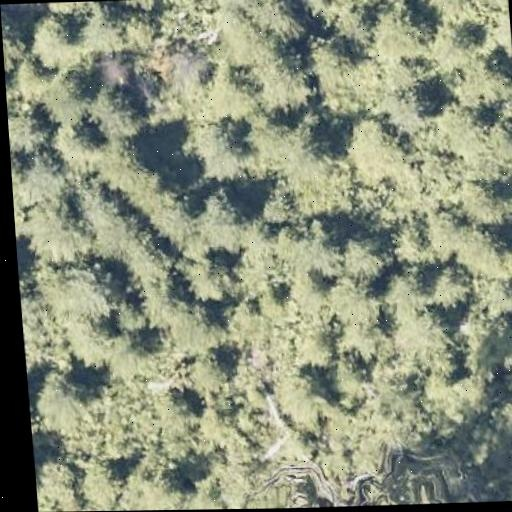tree-top: (339, 112, 416, 188), (40, 258, 125, 325), (18, 193, 94, 265), (247, 41, 320, 110), (190, 62, 268, 126), (32, 364, 100, 437), (177, 115, 252, 180), (364, 0, 434, 68), (266, 360, 336, 426), (326, 231, 388, 305), (80, 194, 151, 257), (275, 116, 341, 181), (92, 133, 159, 197), (24, 7, 87, 71), (60, 303, 126, 363), (175, 245, 236, 308), (86, 81, 147, 143), (455, 219, 512, 285), (34, 69, 95, 128), (392, 296, 454, 353), (194, 189, 253, 248), (139, 184, 200, 239), (324, 271, 381, 329), (122, 463, 187, 511), (445, 58, 503, 111), (172, 300, 227, 353), (456, 172, 511, 224), (75, 454, 125, 511), (34, 451, 84, 507), (430, 16, 482, 69), (340, 231, 393, 281), (156, 381, 206, 434), (7, 97, 52, 150), (243, 0, 305, 38), (182, 349, 232, 396), (86, 6, 133, 53), (139, 277, 192, 318), (292, 326, 338, 370), (390, 222, 434, 266), (431, 267, 473, 310), (285, 264, 326, 308), (484, 112, 512, 161), (1, 11, 23, 71), (486, 1, 512, 51), (36, 2, 96, 14), (503, 361, 512, 408), (106, 0, 164, 6)
